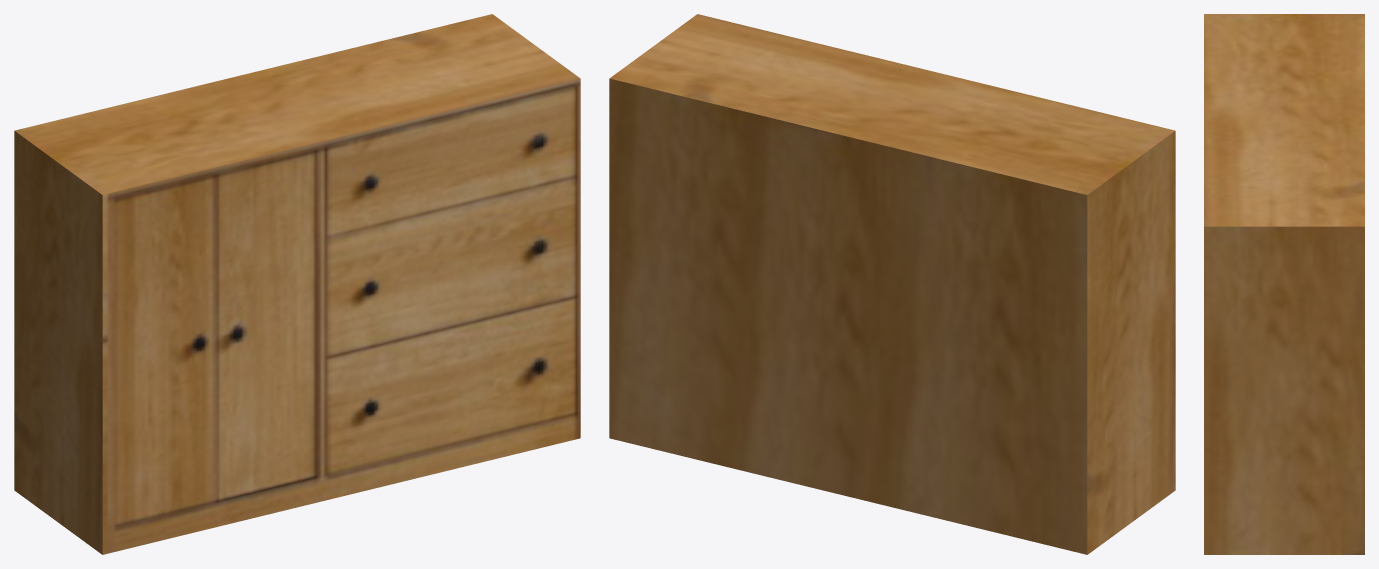
Rendered from Chest_drawers_04-col.glb.
3 views of the same model, side by side, from view 1: azimuth 30°, elevation 25°; view 2: azimuth 150°, elevation 25°; view 3: azimuth 270°, elevation 25° (orthographic). The views are drawn at different scales.
Visible parts, largest first — view 1: Chest_drawers_04-col; view 2: Chest_drawers_04-col; view 3: Chest_drawers_04-col.
Boxes of the visible parts, bbox=[...] form: Chest_drawers_04-col: bbox=[14, 14, 580, 554]; Chest_drawers_04-col: bbox=[609, 14, 1175, 554]; Chest_drawers_04-col: bbox=[1204, 14, 1364, 554].
Bounding box in the file's own units: 1.31 × 0.9393 × 0.4168.
1 material, 1 textured.
